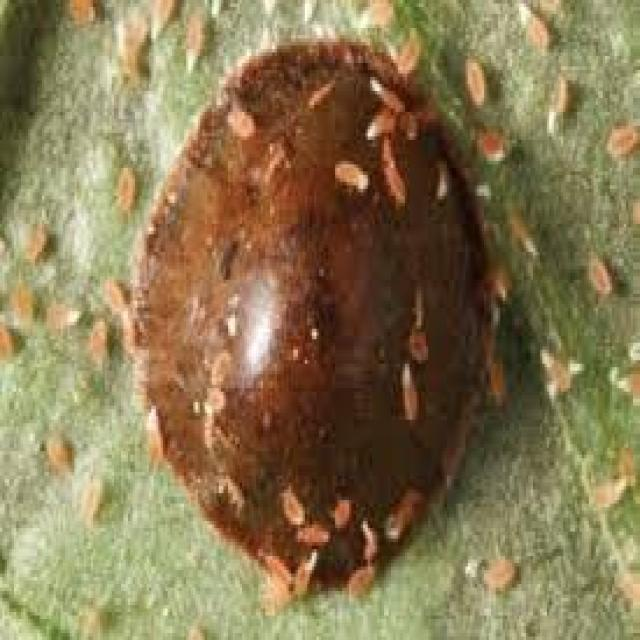Black Scale: (112, 38, 491, 605)
